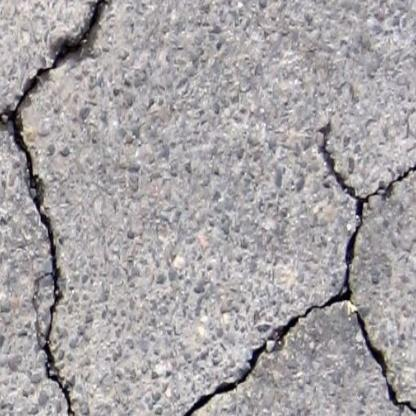Cracks: (172, 118, 416, 416), (0, 0, 134, 416)
